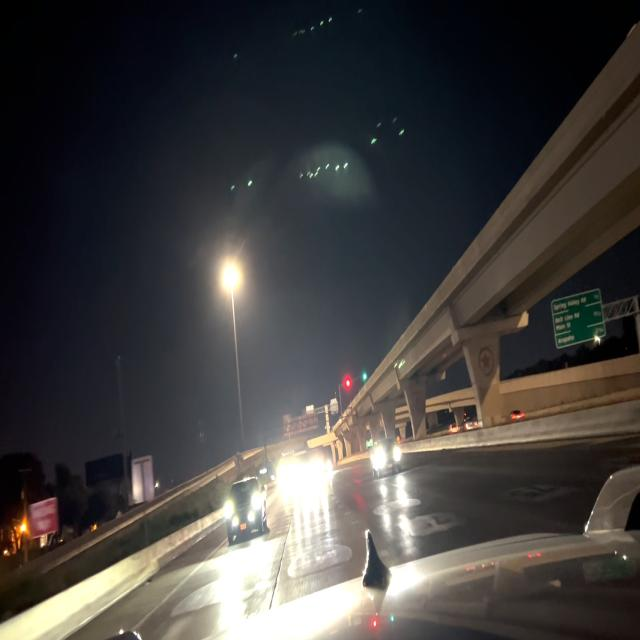back-of-sign: (131, 452, 157, 508), (282, 409, 322, 437), (231, 448, 246, 472)
